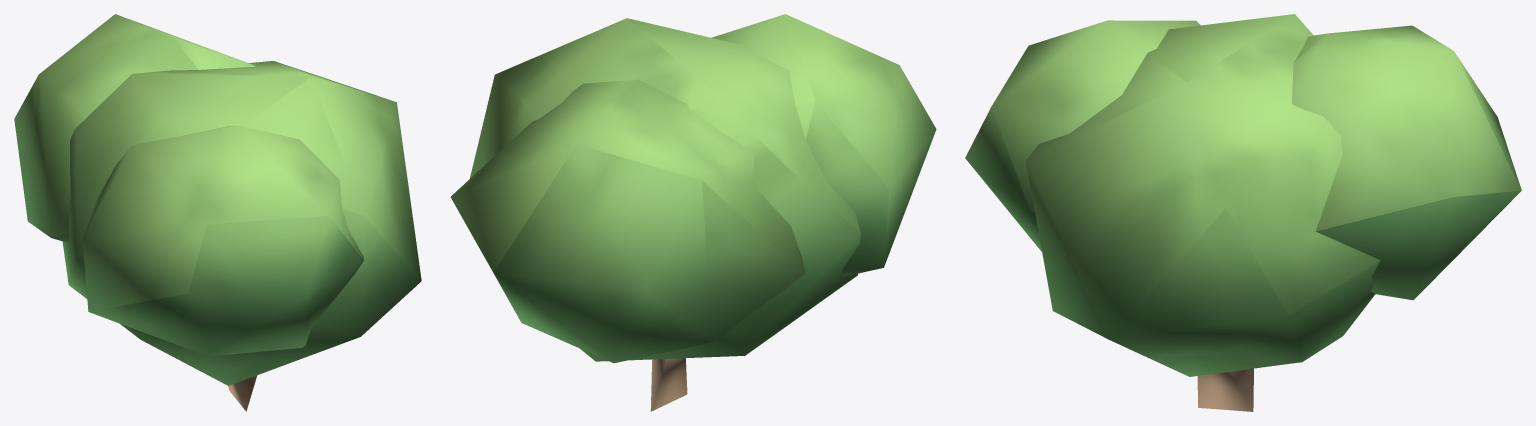
Rendered from bush_small_lod1.gltf.
3 views of the same model, side by side, from view 1: azimuth 30°, elevation 25°; view 2: azimuth 150°, elevation 25°; view 3: azimuth 270°, elevation 25° (orthographic). The views are drawn at different scales.
Parts seen in each view (by area): view 1: bush_small_LOD1; view 2: bush_small_LOD1; view 3: bush_small_LOD1.
Boxes of the visible parts, box(x1,y1,x2,y2) form: bush_small_LOD1: box(14, 14, 421, 411); bush_small_LOD1: box(450, 14, 936, 411); bush_small_LOD1: box(965, 14, 1521, 411).
Size of the model in its own units: 0.4776 by 0.4512 by 0.6205.
Materials: 1 (1 with a texture image).
